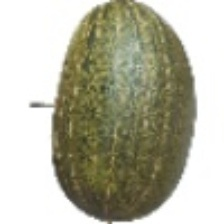honeydew: (11, 37, 197, 219)
